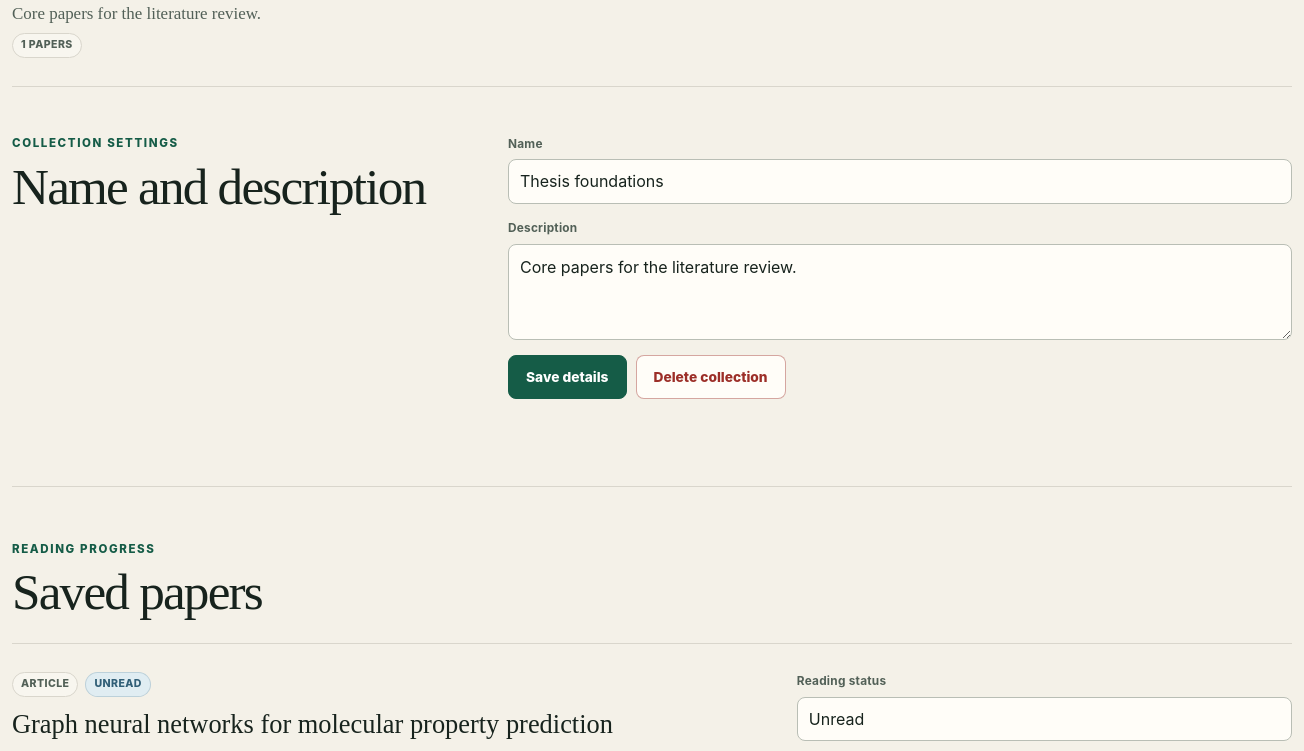
CollectionManager › updates status and normalized tags, then removes the membership
Select "Completed" in the dropdown named "Reading status for Graph neural networks" at (1044, 719), box top-left (797, 696), bottom-right (1292, 741)
(page scrolled)
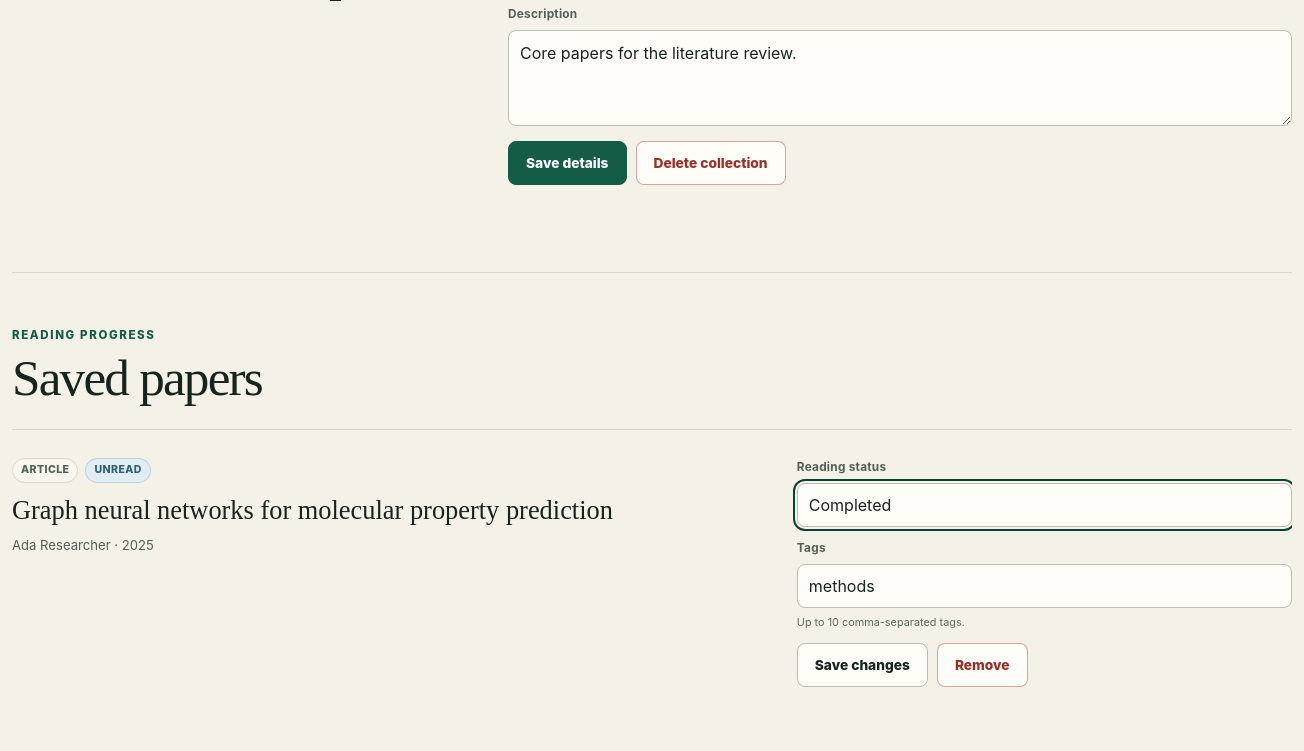
Replace the text in the field named "Tags for Graph neural networks" with " Core   Method " at (1044, 586), box top-left (797, 564), bottom-right (1292, 608)
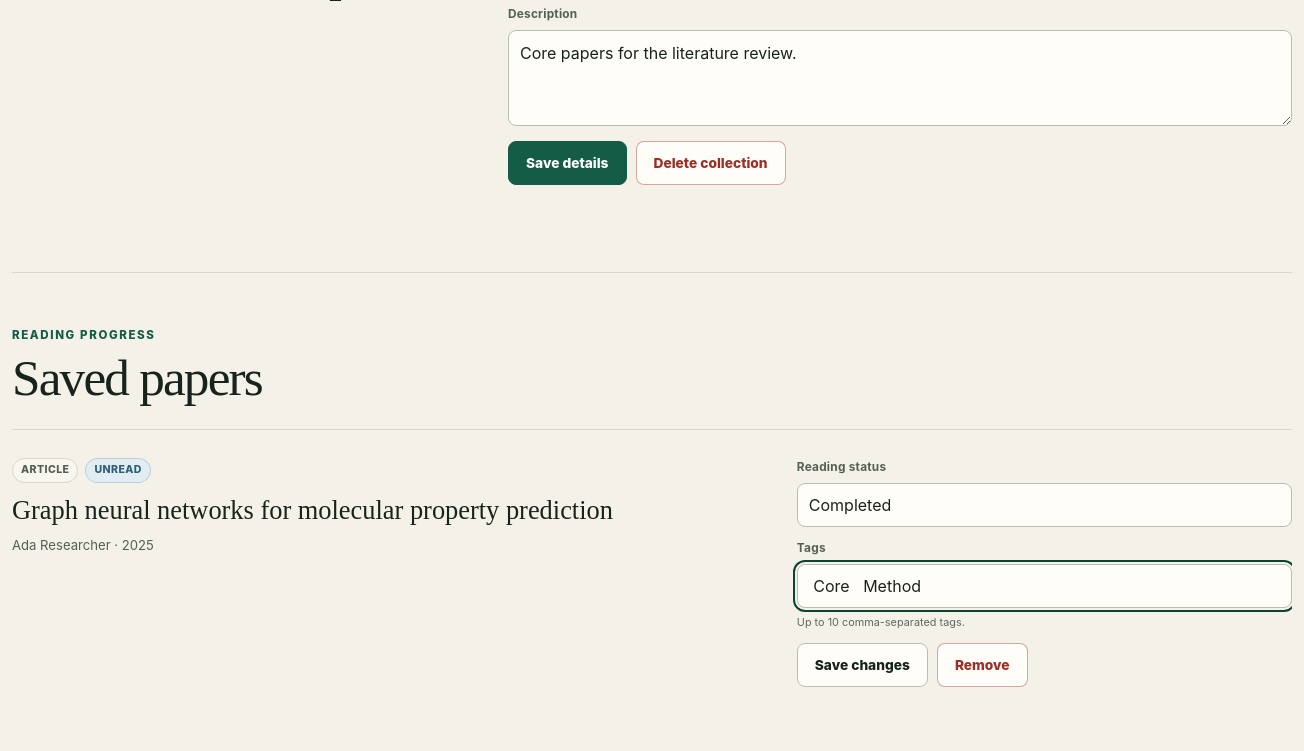
Click the button with aria-label "Save changes for Graph neural networks" at (862, 665), box top-left (797, 643), bottom-right (928, 687)
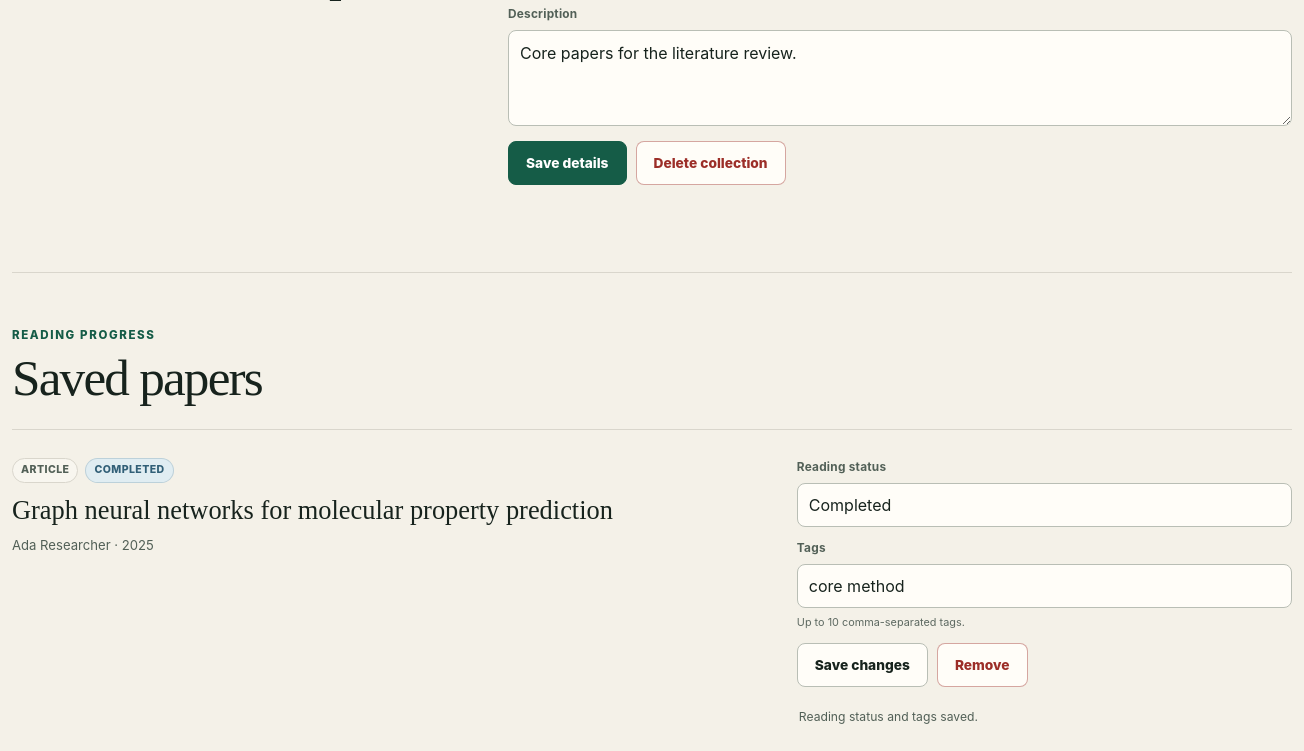
Click the button "Remove" at (982, 665), box top-left (937, 643), bottom-right (1028, 687)
(page scrolled)
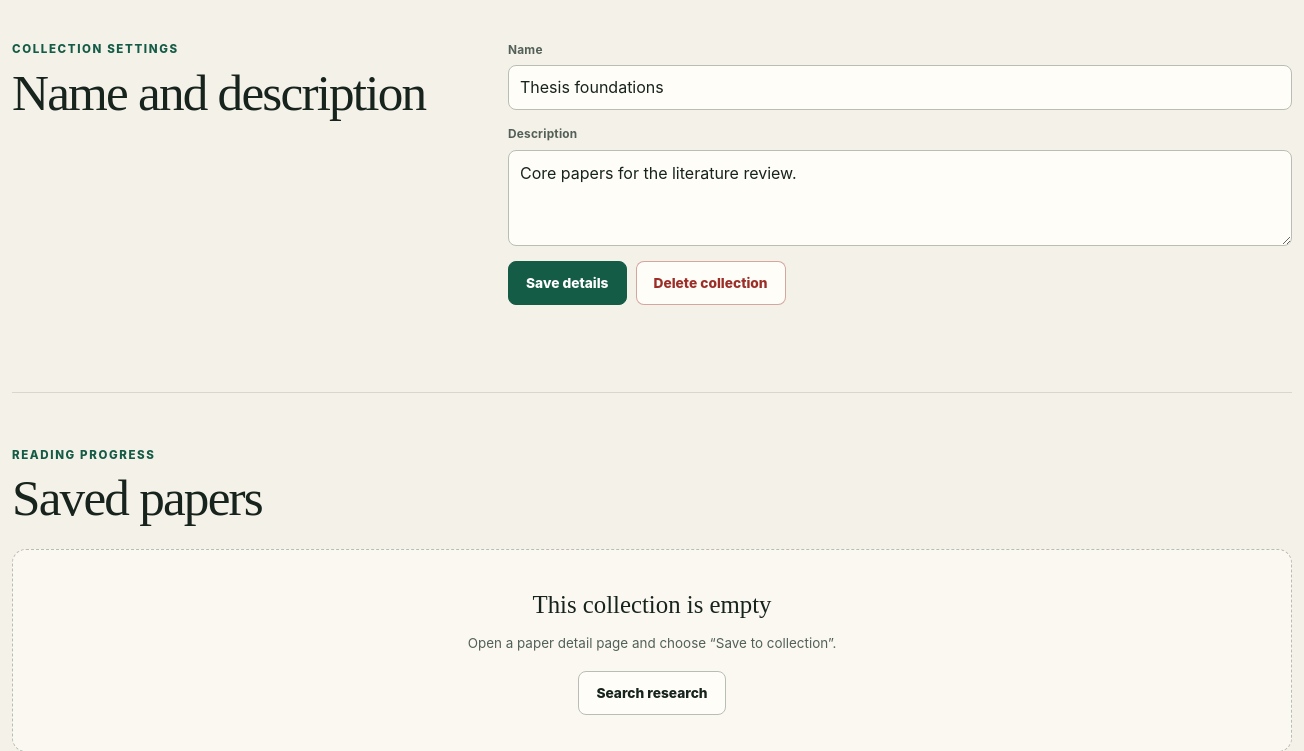
Expected: the heading "This collection is empty" is shown, top-left (532, 591), bottom-right (772, 618)
